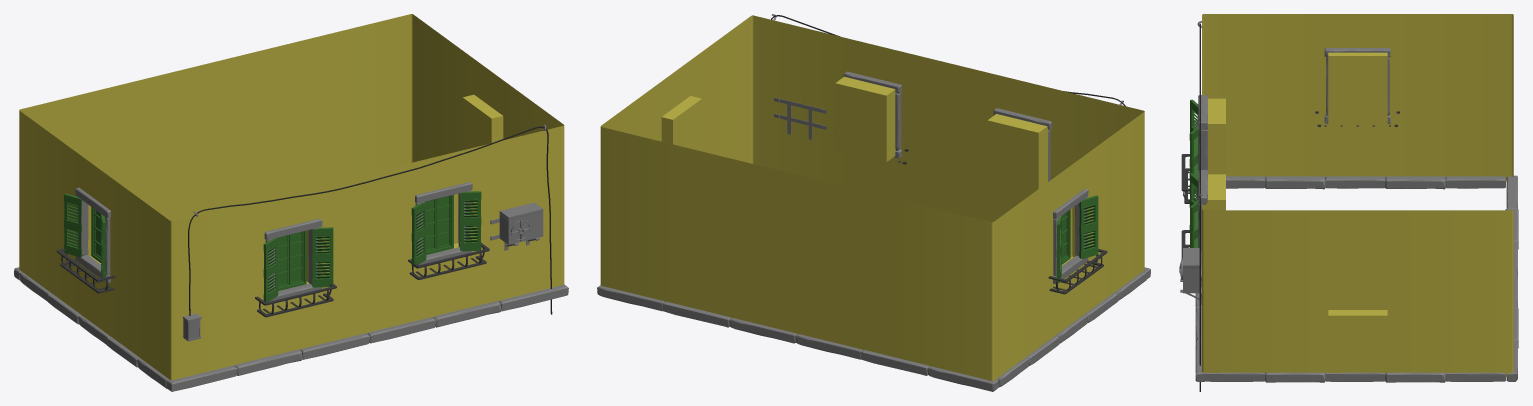
File: SM_building_modular_2x1_02.fbx
The picture shows the model from 3 angles, left to right: view 1: azimuth 30°, elevation 25°; view 2: azimuth 150°, elevation 25°; view 3: azimuth 270°, elevation 25°; orthographic projection. The views are drawn at different scales.
Parts seen in each view (by area): view 1: Object32367; view 2: Object32367; view 3: Object32367.
Part boxes in pixels (<box>): Object32367: <box>14,14,568,391</box>; Object32367: <box>597,14,1150,391</box>; Object32367: <box>1179,14,1518,391</box>.
Size of the model in its own units: 438 by 193 by 305.
